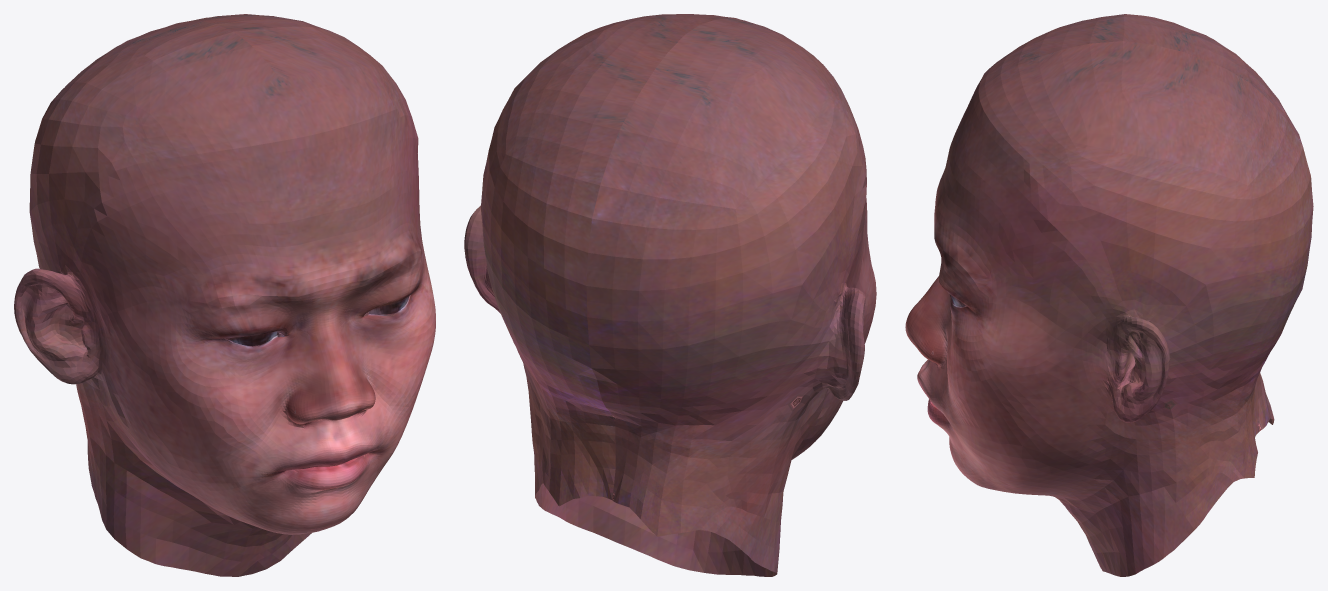
The model's file is result_prompt.obj.
The picture shows the model from 3 angles, left to right: view 1: azimuth 30°, elevation 25°; view 2: azimuth 150°, elevation 25°; view 3: azimuth 270°, elevation 25°; orthographic projection. The views are drawn at different scales.
Size of the model in its own units: 221 by 289 by 206.
